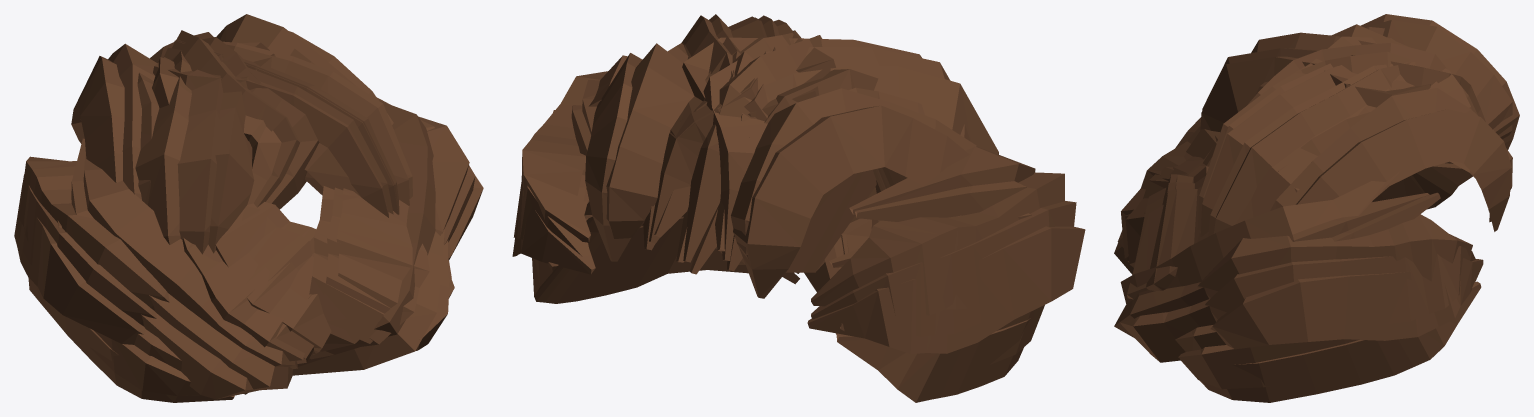
File: PeinadoDensoEtapa1.fbx
3 renders of one model, left to right at view 1: azimuth 30°, elevation 25°; view 2: azimuth 150°, elevation 25°; view 3: azimuth 270°, elevation 25°, orthographic. The views are drawn at different scales.
Parts seen in each view (by area): view 1: PeinadoDensoEtapa1; view 2: PeinadoDensoEtapa1; view 3: PeinadoDensoEtapa1.
Part boxes in pixels (box(x1,y1,x2,y2)): PeinadoDensoEtapa1: box(14, 14, 483, 402); PeinadoDensoEtapa1: box(512, 14, 1085, 402); PeinadoDensoEtapa1: box(1114, 14, 1519, 402).
Size of the model in its own units: 1.59 by 1.06 by 1.32.
